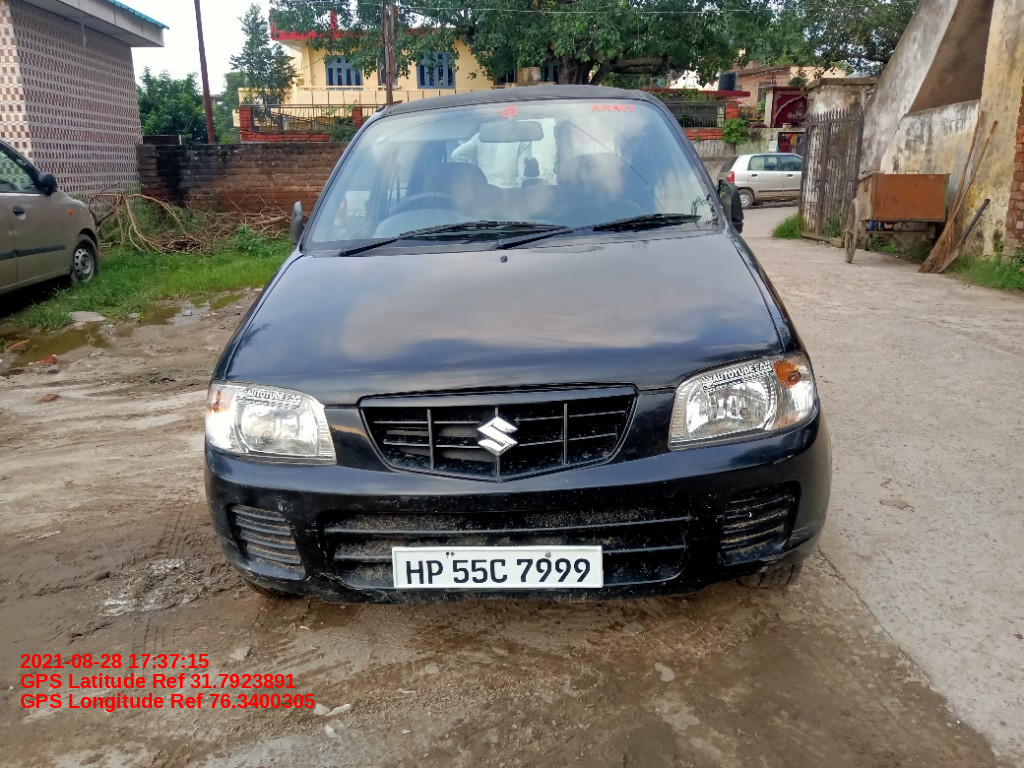Scratched: (208, 492, 238, 571), (241, 568, 318, 587), (266, 495, 305, 515)
